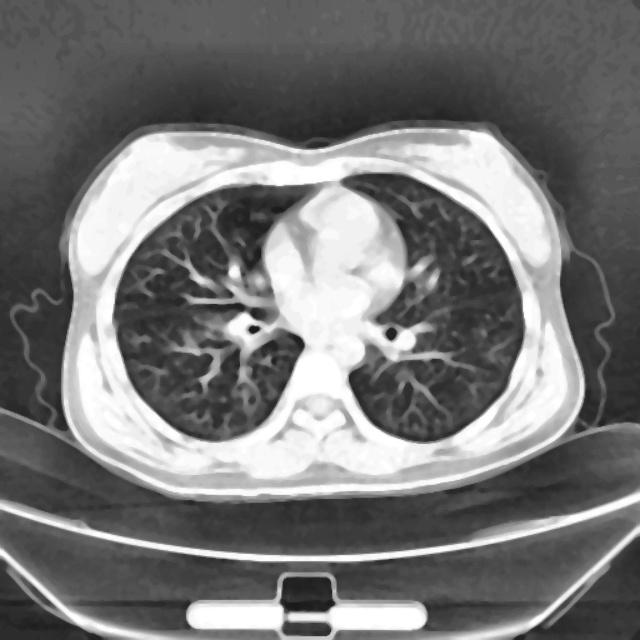covid: (58, 118, 600, 502)
